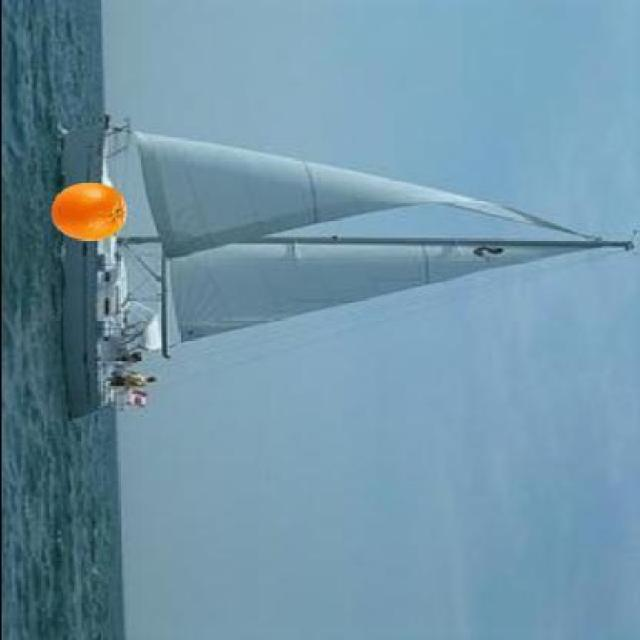Orange: (49, 180, 126, 240)
